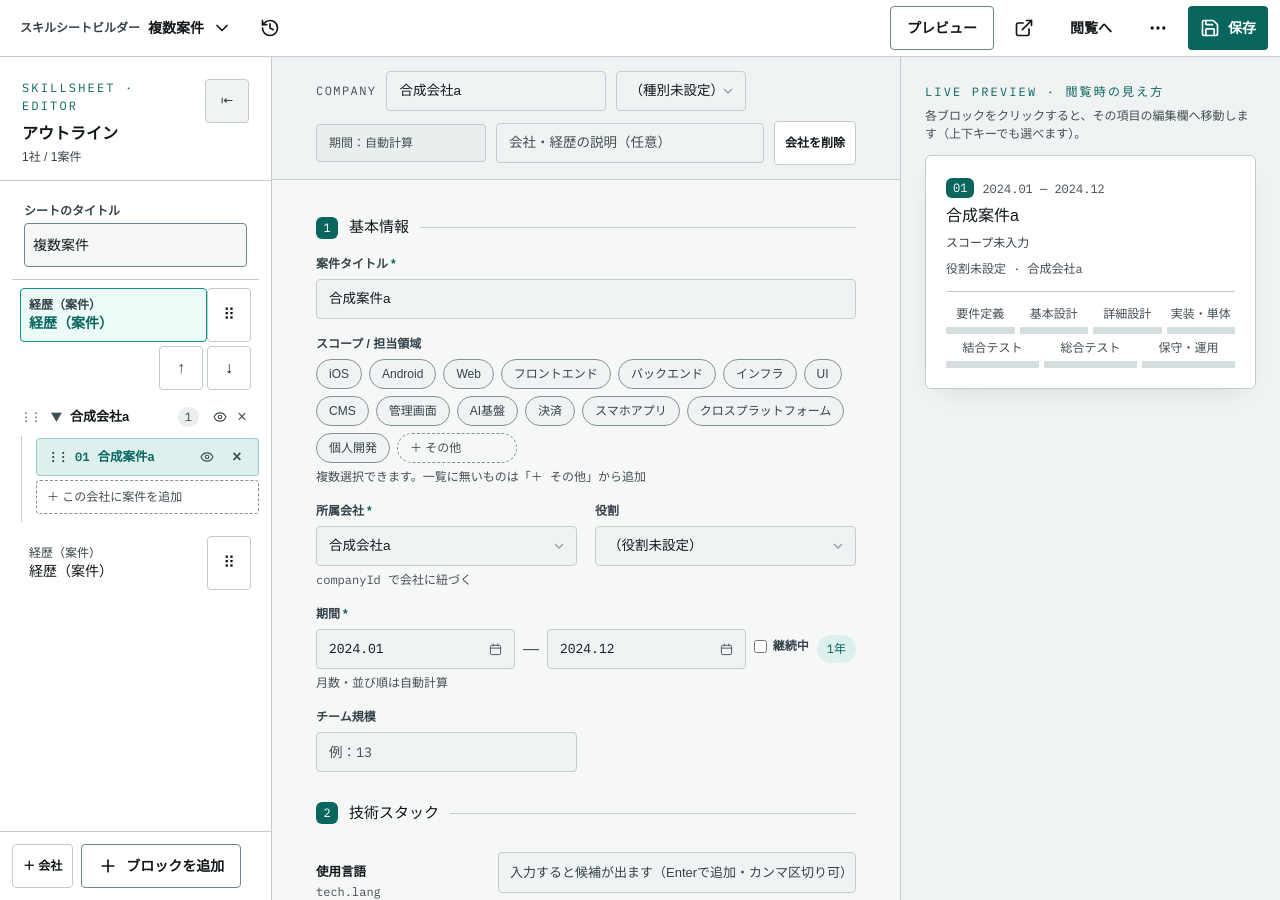
Test: BuilderClient › 選択した2件目のprojectだけを書き換え、1件目と順序・IDを保持する
The image size is (1280, 900).
Click the button with aria-label "経歴（案件）: 経歴（案件）" at {"x": 114, "y": 563}, box [20,536,207,590]
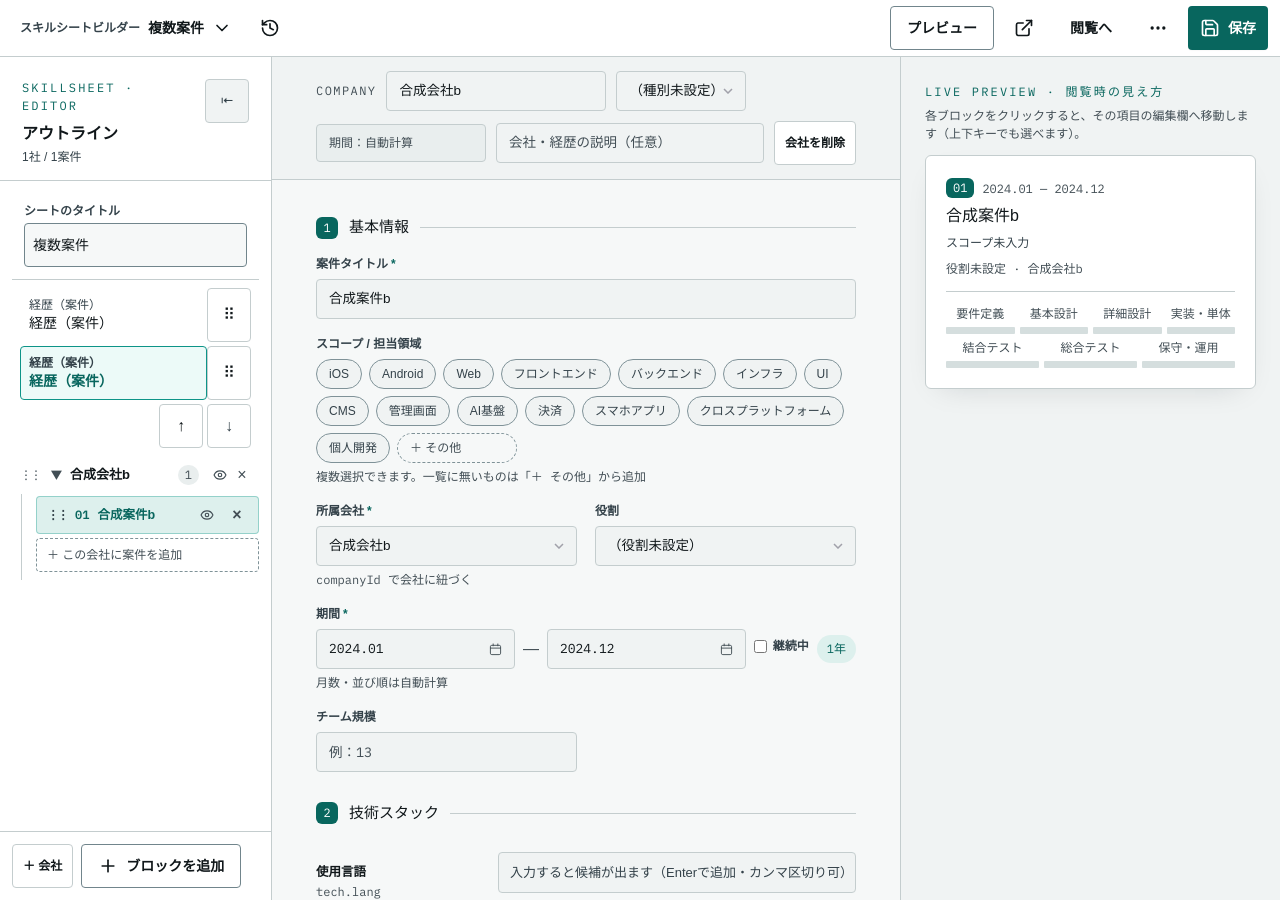
Result: the field named "案件タイトル" holds "合成案件b"
Replace the text in the field named "案件タイトル" with "2件目のみ更新" at {"x": 586, "y": 299}, box [316,279,856,319]
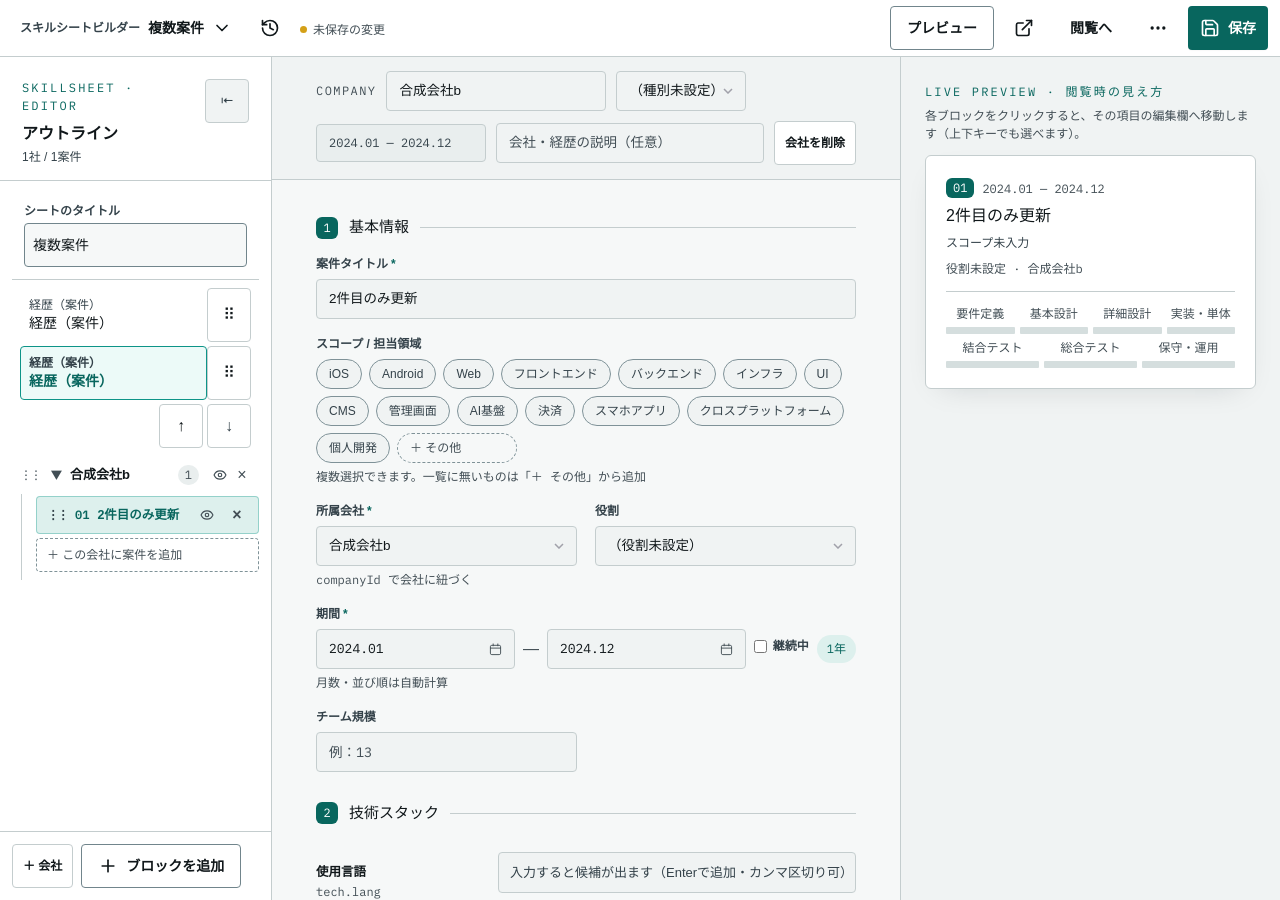
Click the button "保存" at {"x": 1228, "y": 28}, box [1188,6,1268,50]
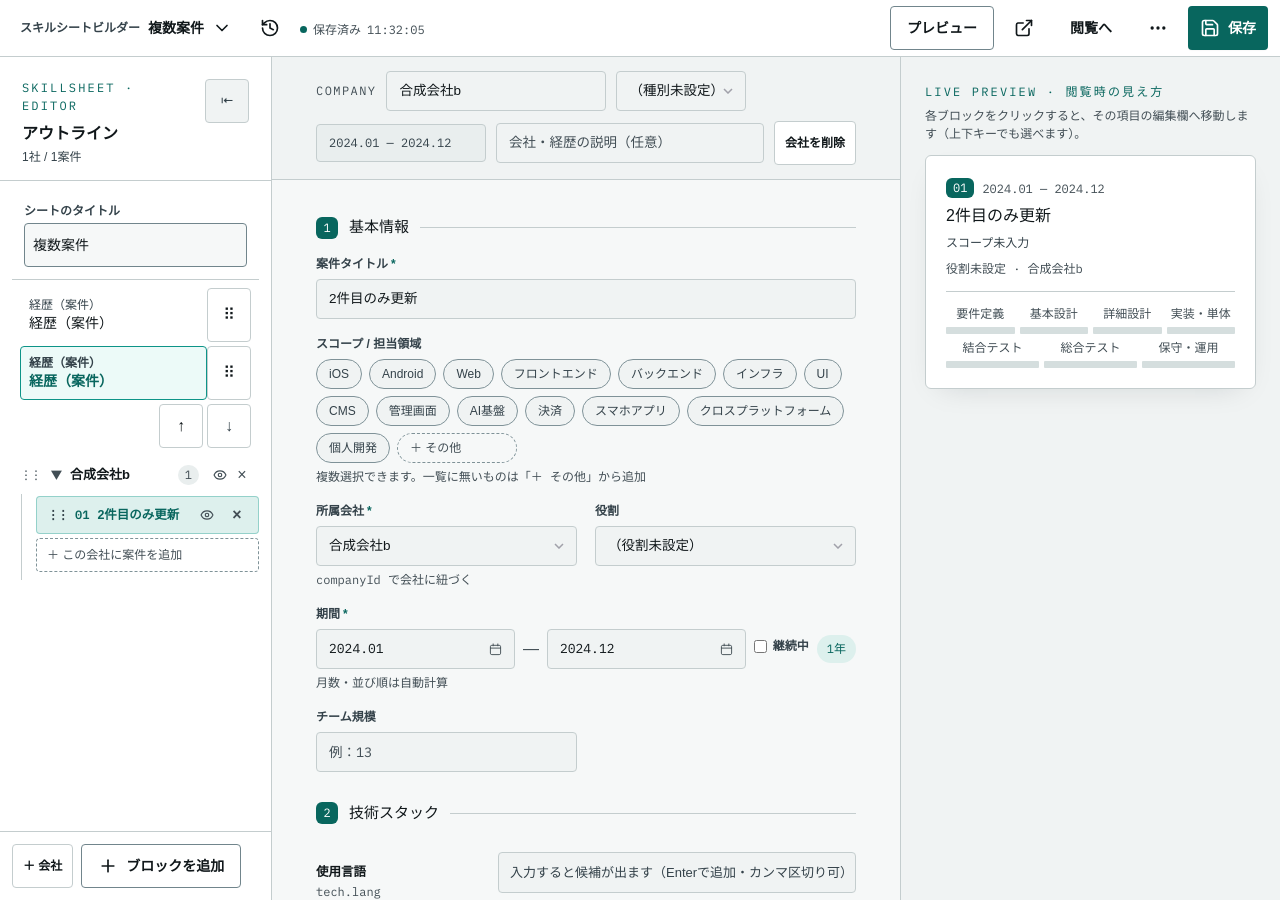
Click the button with aria-label "経歴（案件）: 経歴（案件）" at {"x": 114, "y": 315}, box [20,288,207,342]
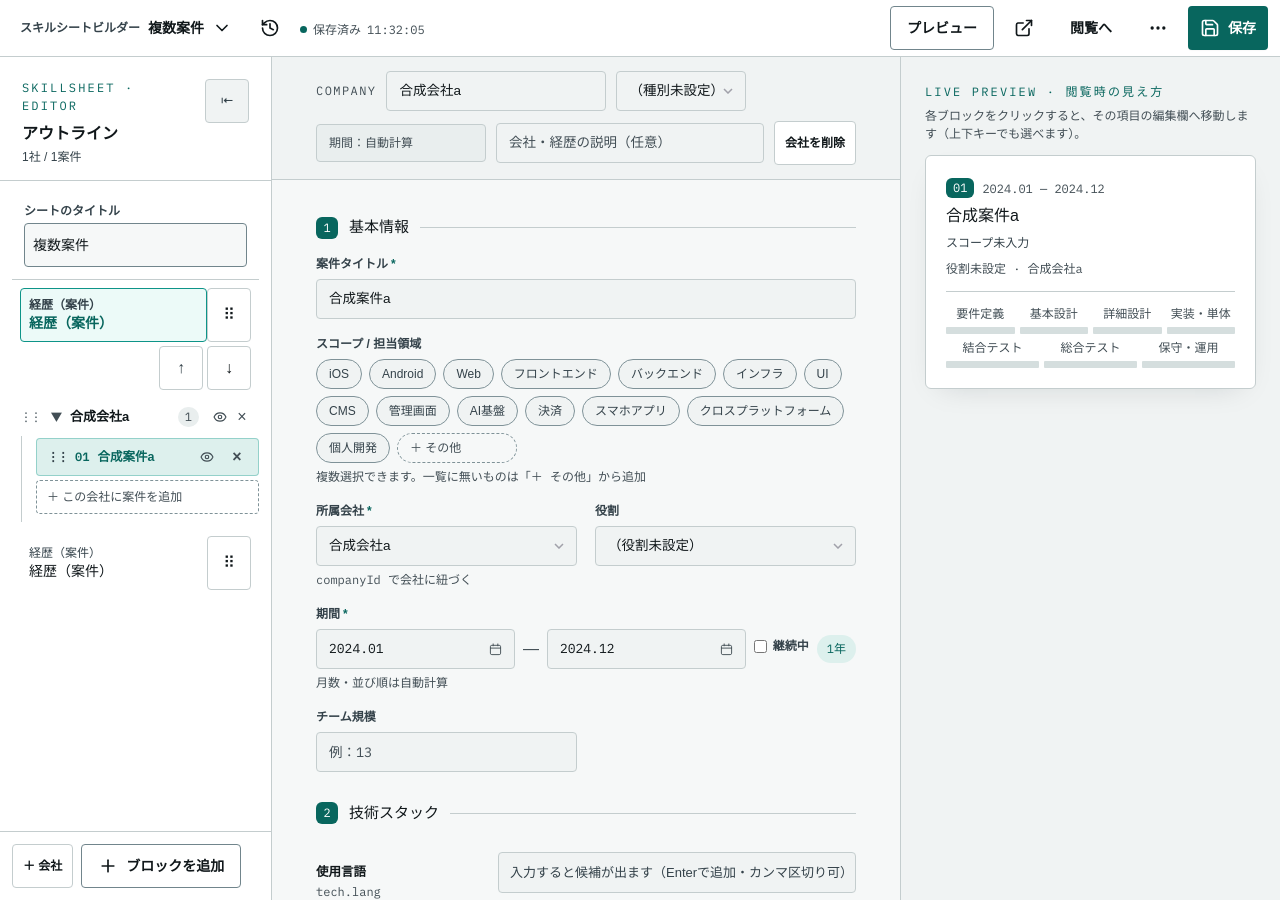
Result: the field named "案件タイトル" holds "合成案件a" at [316,279,856,319]
